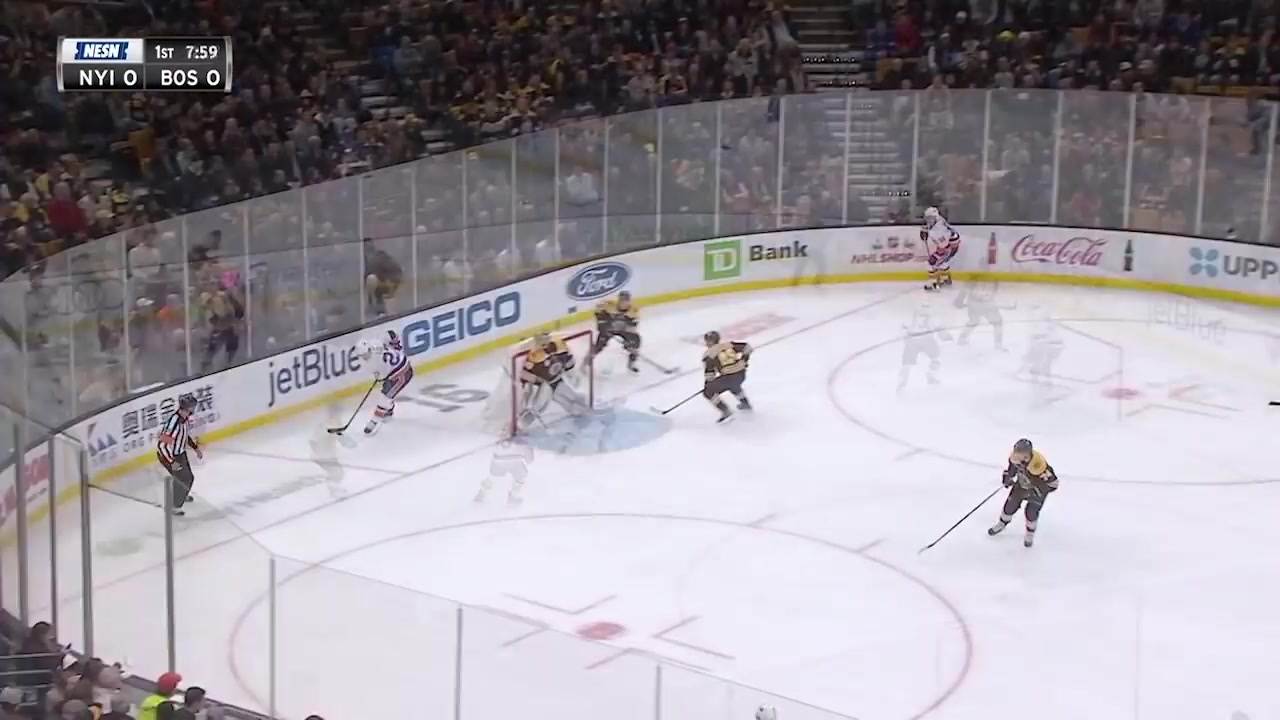Geico: (393, 291, 535, 360)
